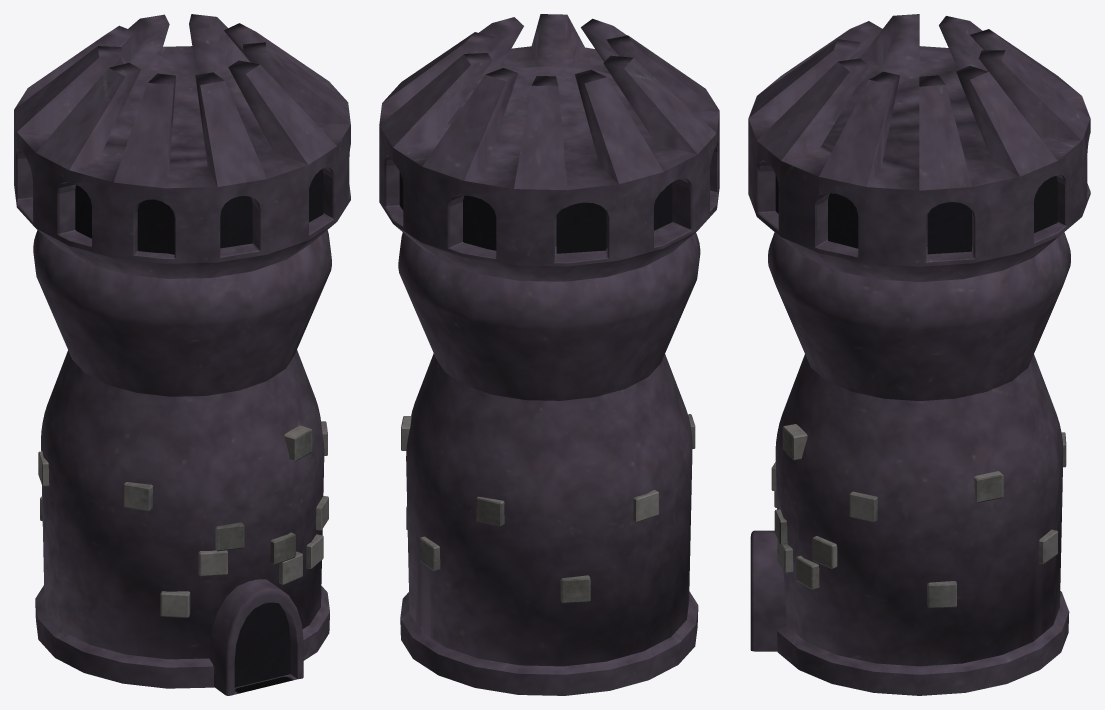
Rendered from Mage_Tower_Lvl_1.fbx.
3 views of the same model, side by side, from view 1: azimuth 30°, elevation 25°; view 2: azimuth 150°, elevation 25°; view 3: azimuth 270°, elevation 25° (orthographic).
Visible parts, largest first — view 1: Cylinder.001_Baked; view 2: Cylinder.001_Baked; view 3: Cylinder.001_Baked.
Boxes of the visible parts, x1,y1,x2,y2 form: Cylinder.001_Baked: (14,14,350,695); Cylinder.001_Baked: (379,14,719,695); Cylinder.001_Baked: (748,14,1090,695).
Size of the model in its own units: 97.11 by 183 by 97.11.
Materials: 1 (1 with a texture image).
